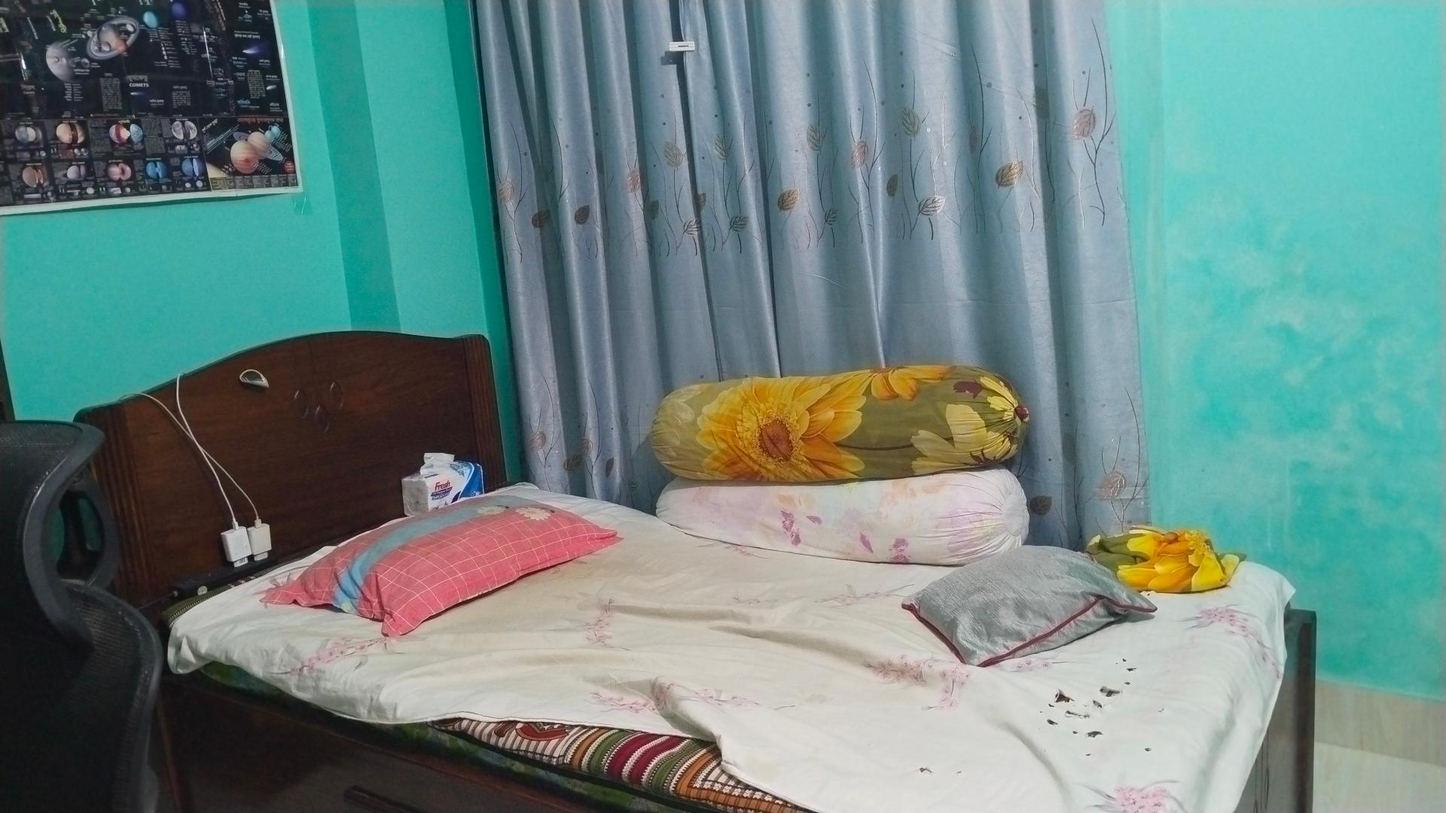Pillow: (309, 450, 591, 651), (643, 363, 1014, 470), (652, 449, 1023, 551), (917, 522, 1122, 674)
